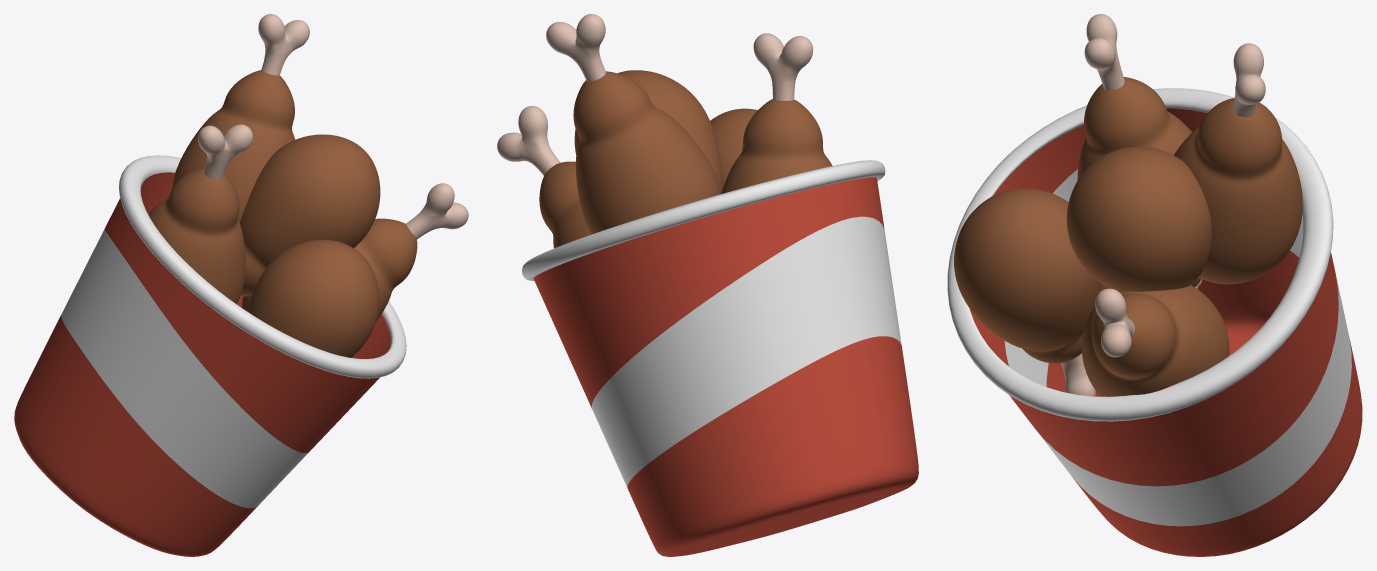
Rendered from Chicken Bucket.fbx.
The picture shows the model from 3 angles, left to right: view 1: azimuth 30°, elevation 25°; view 2: azimuth 150°, elevation 25°; view 3: azimuth 270°, elevation 25°; orthographic projection. The views are drawn at different scales.
Visible parts, largest first — view 1: soda_cup.012_Circle.244, Circle.030_Circle.250, Circle.026_Circle.250, chick_leg_cup.001_Circle.241, Circle.028_Circle.250, Circle.029_Circle.250, Circle.027_Circle.250, Circle.009_Circle.242, Circle.006_Circle.242, Circle.008_Circle.242; view 2: soda_cup.012_Circle.244, Circle.029_Circle.250, chick_leg_cup.001_Circle.241, Circle.028_Circle.250, Circle.030_Circle.250, Circle.027_Circle.250, Circle.008_Circle.242, Circle.009_Circle.242, Circle.006_Circle.242, Circle.026_Circle.250; view 3: soda_cup.012_Circle.244, chick_leg_cup.001_Circle.241, Circle.026_Circle.250, Circle.030_Circle.250, Circle.029_Circle.250, Circle.027_Circle.250, Circle.028_Circle.250, Circle.008_Circle.242, Circle.009_Circle.242, Circle.006_Circle.242, Circle.004_Circle.242.
Boxes of the visible parts, left/top/right/bottom form: soda_cup.012_Circle.244: left=14, top=172, right=390, bottom=556; Circle.030_Circle.250: left=240, top=134, right=380, bottom=296; Circle.026_Circle.250: left=247, top=239, right=379, bottom=357; chick_leg_cup.001_Circle.241: left=119, top=155, right=406, bottom=378; Circle.028_Circle.250: left=148, top=168, right=245, bottom=304; Circle.029_Circle.250: left=172, top=70, right=295, bottom=222; Circle.027_Circle.250: left=241, top=218, right=417, bottom=320; Circle.009_Circle.242: left=258, top=14, right=309, bottom=75; Circle.006_Circle.242: left=406, top=183, right=468, bottom=239; Circle.008_Circle.242: left=198, top=124, right=252, bottom=179; soda_cup.012_Circle.244: left=533, top=177, right=918, bottom=556; Circle.029_Circle.250: left=573, top=71, right=720, bottom=234; chick_leg_cup.001_Circle.241: left=522, top=160, right=885, bottom=280; Circle.028_Circle.250: left=721, top=99, right=832, bottom=193; Circle.030_Circle.250: left=574, top=70, right=723, bottom=193; Circle.027_Circle.250: left=539, top=161, right=590, bottom=248; Circle.008_Circle.242: left=753, top=33, right=813, bottom=100; Circle.009_Circle.242: left=546, top=14, right=606, bottom=81; Circle.006_Circle.242: left=497, top=106, right=560, bottom=175; Circle.026_Circle.250: left=710, top=108, right=757, bottom=186; soda_cup.012_Circle.244: left=970, top=108, right=1362, bottom=556; chick_leg_cup.001_Circle.241: left=947, top=88, right=1333, bottom=421; Circle.026_Circle.250: left=954, top=188, right=1102, bottom=363; Circle.030_Circle.250: left=1066, top=146, right=1211, bottom=291; Circle.029_Circle.250: left=1174, top=98, right=1302, bottom=284; Circle.027_Circle.250: left=1082, top=285, right=1229, bottom=396; Circle.028_Circle.250: left=1077, top=77, right=1192, bottom=180; Circle.008_Circle.242: left=1084, top=14, right=1124, bottom=90; Circle.009_Circle.242: left=1233, top=43, right=1265, bottom=117; Circle.006_Circle.242: left=1095, top=288, right=1134, bottom=357; Circle.004_Circle.242: left=1061, top=353, right=1095, bottom=396.
Bounding box in the file's own units: 191 × 218 × 146.
